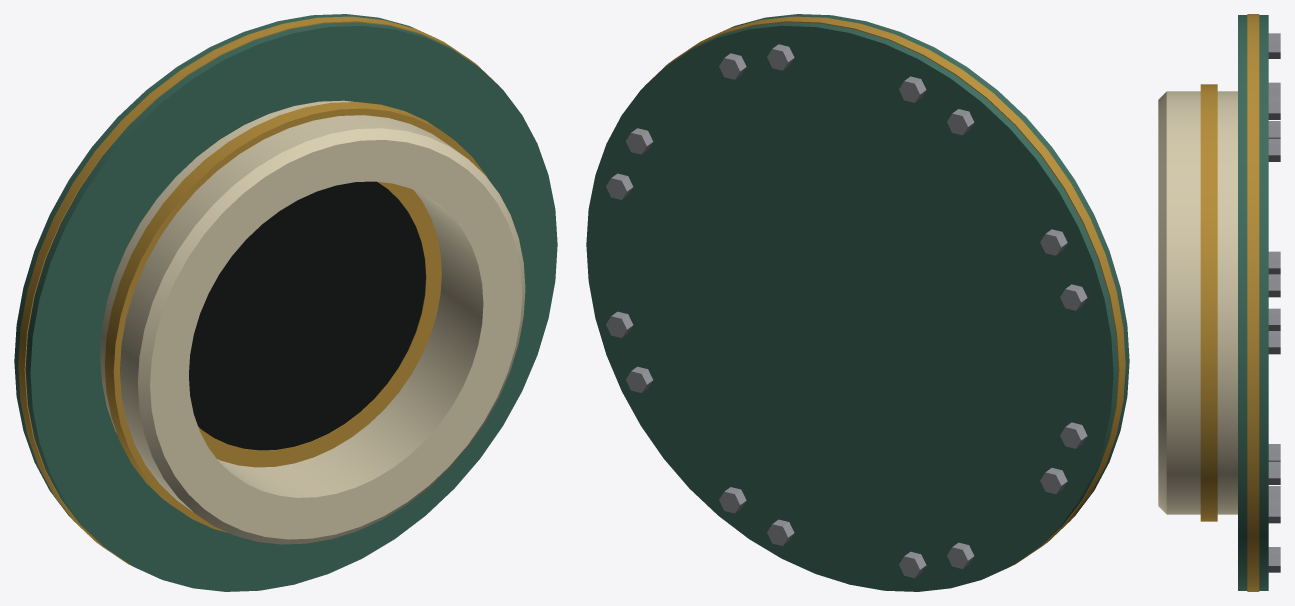
Rendered from tank4200_coupler_aft.obj.
3 views of the same model, side by side, from view 1: azimuth 30°, elevation 25°; view 2: azimuth 150°, elevation 25°; view 3: azimuth 270°, elevation 25° (orthographic). The views are drawn at different scales.
Visible parts, largest first — view 1: tank4200_coupler_aft; view 2: tank4200_coupler_aft; view 3: tank4200_coupler_aft.
Boxes of the visible parts, <box> form: tank4200_coupler_aft: <box>14,14,557,591</box>; tank4200_coupler_aft: <box>586,14,1129,591</box>; tank4200_coupler_aft: <box>1158,14,1280,591</box>.
Bounding box in the file's own units: 3.41 × 3.41 × 0.7214.
